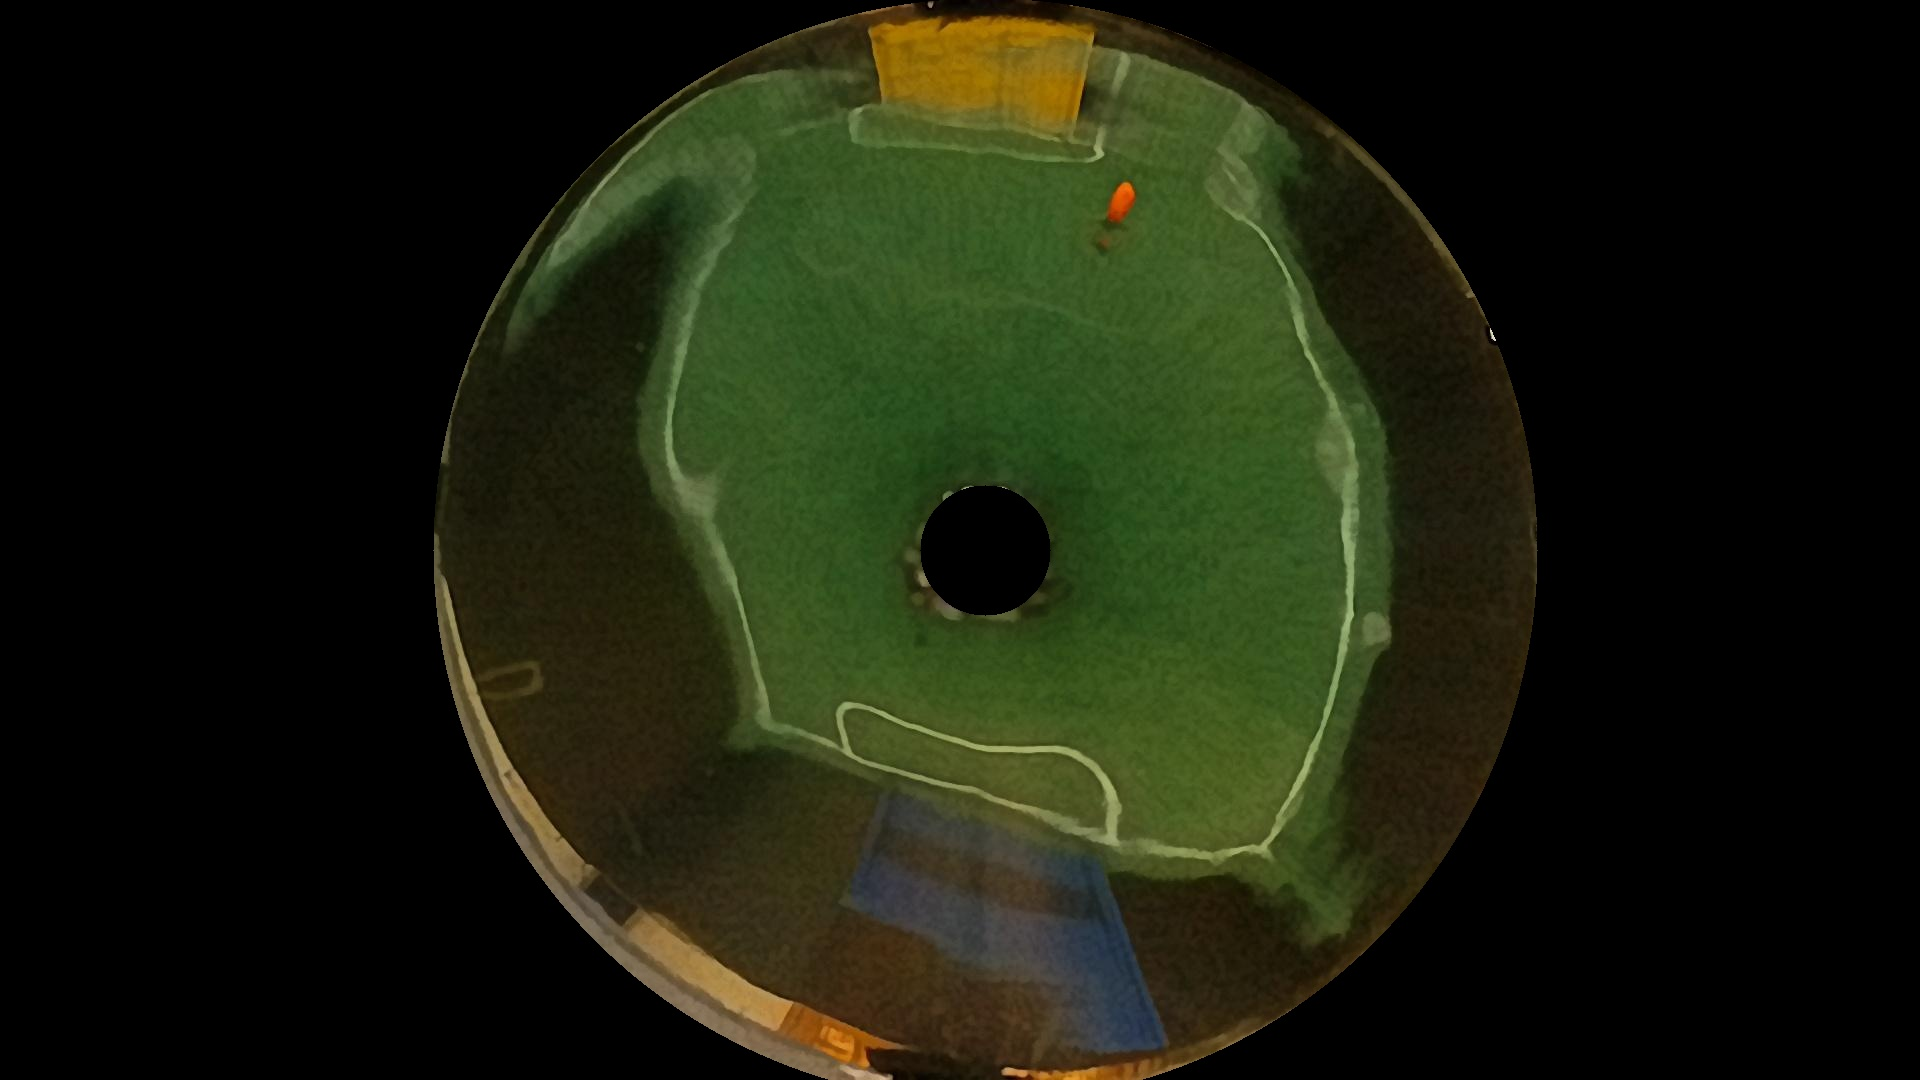ball: (1102, 167, 1138, 228)
blue-goal: (836, 781, 1178, 1060)
yellow-goal: (870, 15, 1080, 144)
